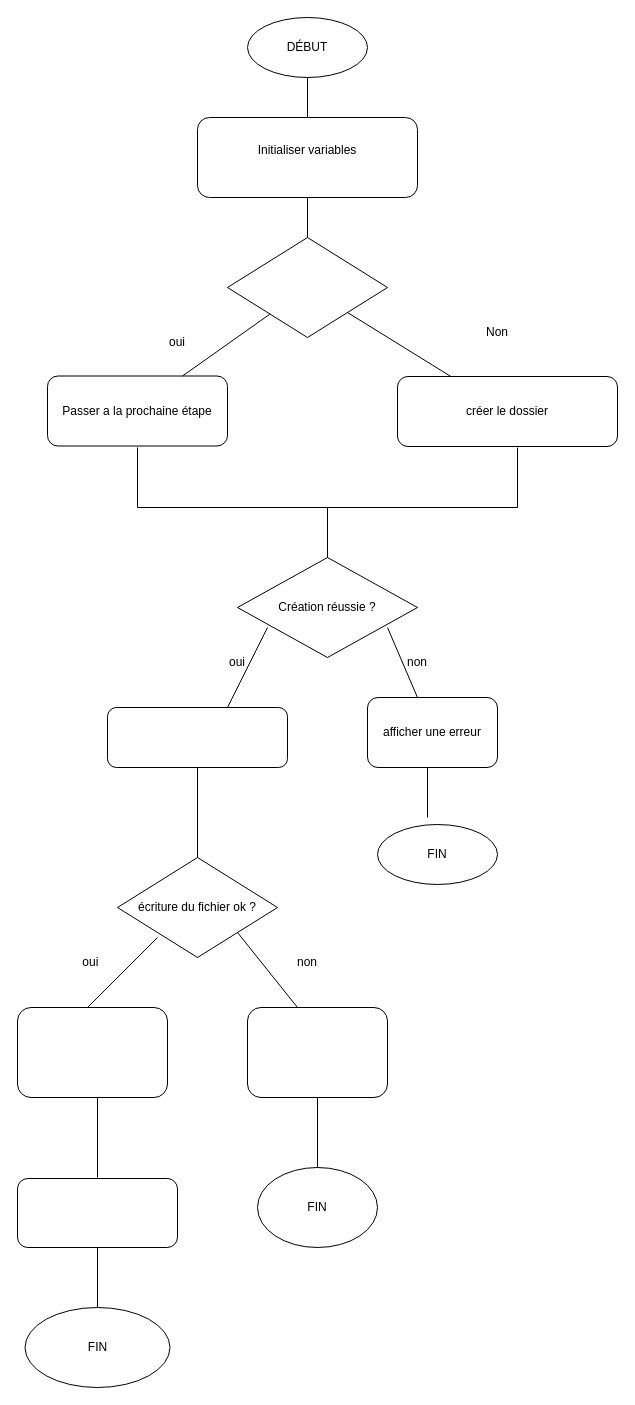
Image size: 635x1405. Some labels were removed from this diagram. Here are the shapes that lost their labels. From the top down, the box of each, then its label:
(226, 236, 388, 338): Le dossier existe ?
(106, 706, 288, 768): créer le fichier confirmation
(16, 1006, 168, 1098): écrire dans le log géneral
(246, 1006, 388, 1098): afficher une erreur et arreter
(16, 1178, 178, 1248): afficher message final
